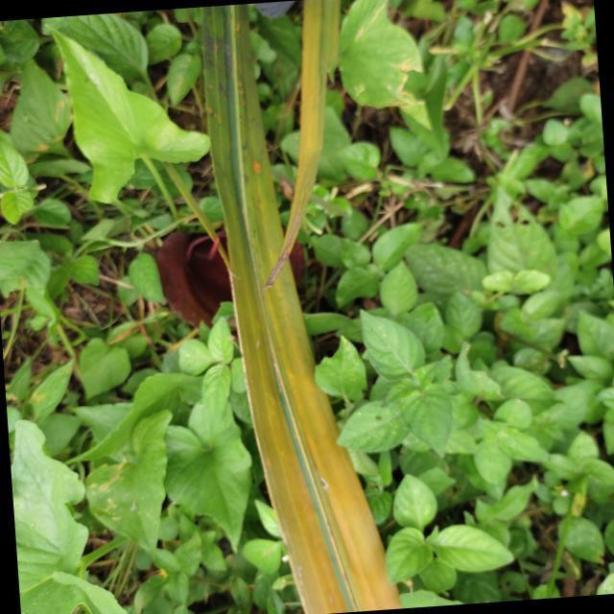Megnesium: (188, 3, 397, 614)
